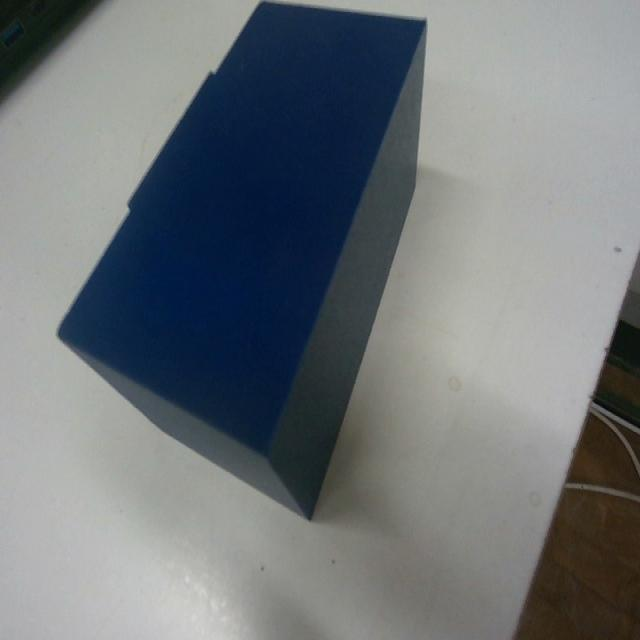Blue Cuboid: (55, 0, 429, 520)
